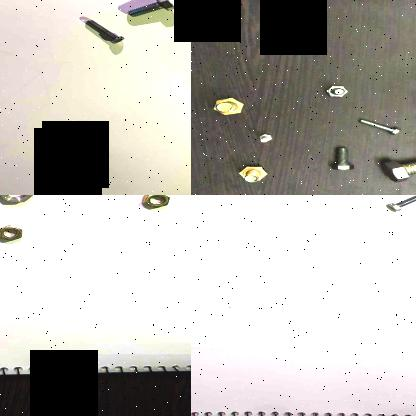Bolts: (74, 15, 127, 45), (369, 151, 416, 183), (120, 0, 178, 21), (206, 92, 249, 118), (356, 114, 404, 136), (232, 164, 274, 186), (327, 142, 355, 174), (381, 195, 416, 214), (318, 82, 354, 98), (252, 130, 280, 144)
NUTS: (139, 195, 173, 212), (0, 223, 27, 243), (0, 195, 39, 204)
